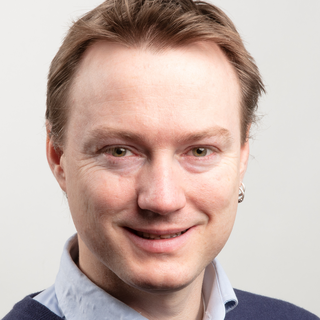eye: (95, 140, 147, 164), (179, 140, 225, 164)
